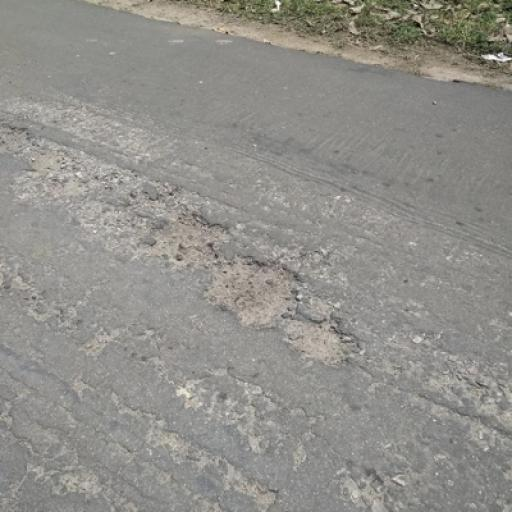pothole: (0, 119, 100, 198), (201, 255, 303, 329), (146, 207, 230, 270), (284, 315, 357, 371)
